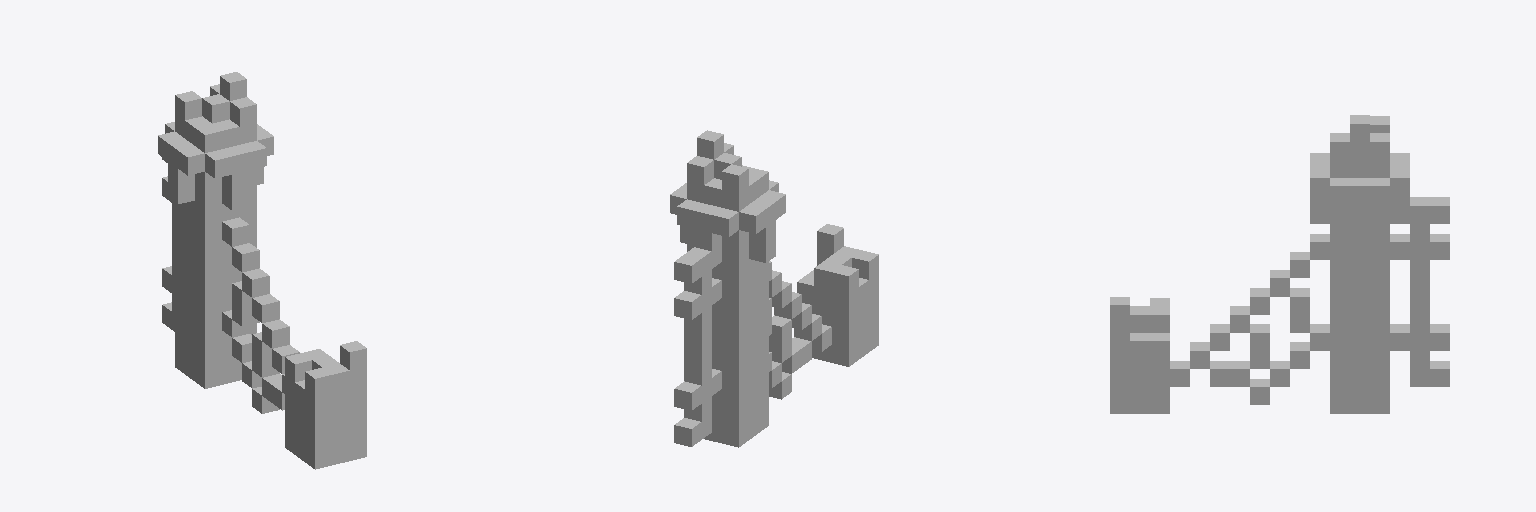
Rendered from villageFenceEdge-0.obj.
The picture shows the model from 3 angles: view 1: azimuth 30°, elevation 25°; view 2: azimuth 150°, elevation 25°; view 3: azimuth 270°, elevation 25°; orthographic projection.
Visible parts, largest first — view 1: object 1; view 2: object 1; view 3: object 1.
Boxes of the visible parts, <box> form: object 1: <box>158,72,366,469</box>; object 1: <box>670,130,878,447</box>; object 1: <box>1110,115,1449,413</box>.
Size of the model in its own units: 0.5 by 1.6 by 1.7.